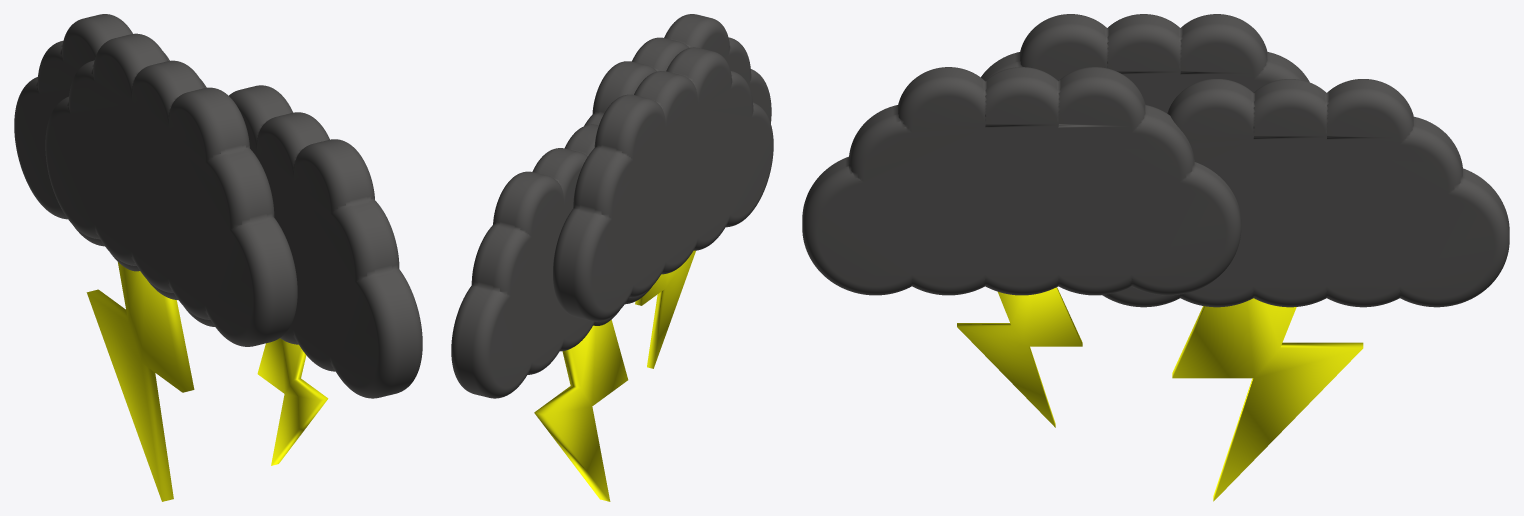
Rendered from thunderStrom.glb.
3 renders of one model, left to right at view 1: azimuth 30°, elevation 25°; view 2: azimuth 150°, elevation 25°; view 3: azimuth 270°, elevation 25°, orthographic. The views are drawn at different scales.
Parts seen in each view (by area): view 1: thunderStrom, thunderStrom.001; view 2: thunderStrom, thunderStrom.001; view 3: thunderStrom, thunderStrom.001.
Boxes of the visible parts, x1,y1,x2,y2 form: thunderStrom: (14, 14, 422, 398); thunderStrom.001: (86, 262, 328, 501); thunderStrom: (451, 14, 773, 398); thunderStrom.001: (534, 250, 695, 501); thunderStrom: (802, 14, 1509, 307); thunderStrom.001: (957, 287, 1363, 501).
Size of the model in its own units: 10.6 by 44.52 by 61.45.
